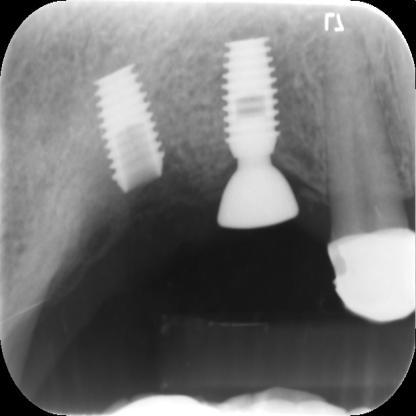Bicon: (95, 61, 169, 192), (223, 35, 282, 173)
